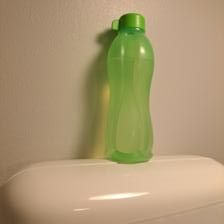bottle: (99, 12, 158, 164)
